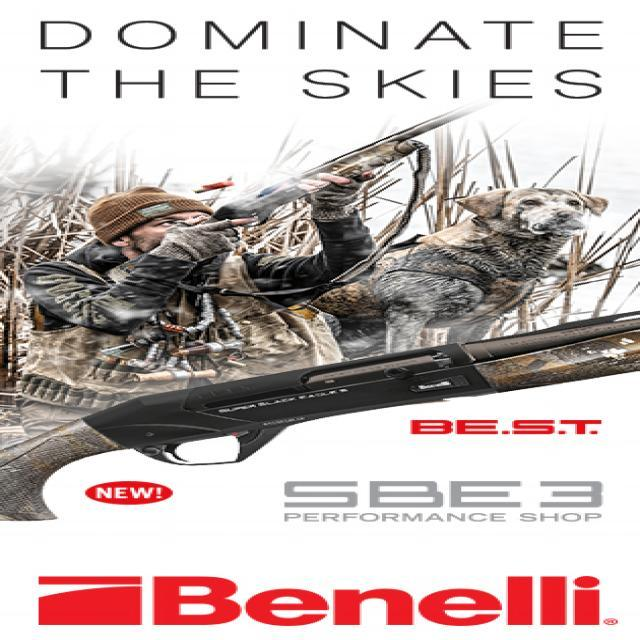shotgun: (31, 337, 640, 542), (164, 92, 506, 251)
